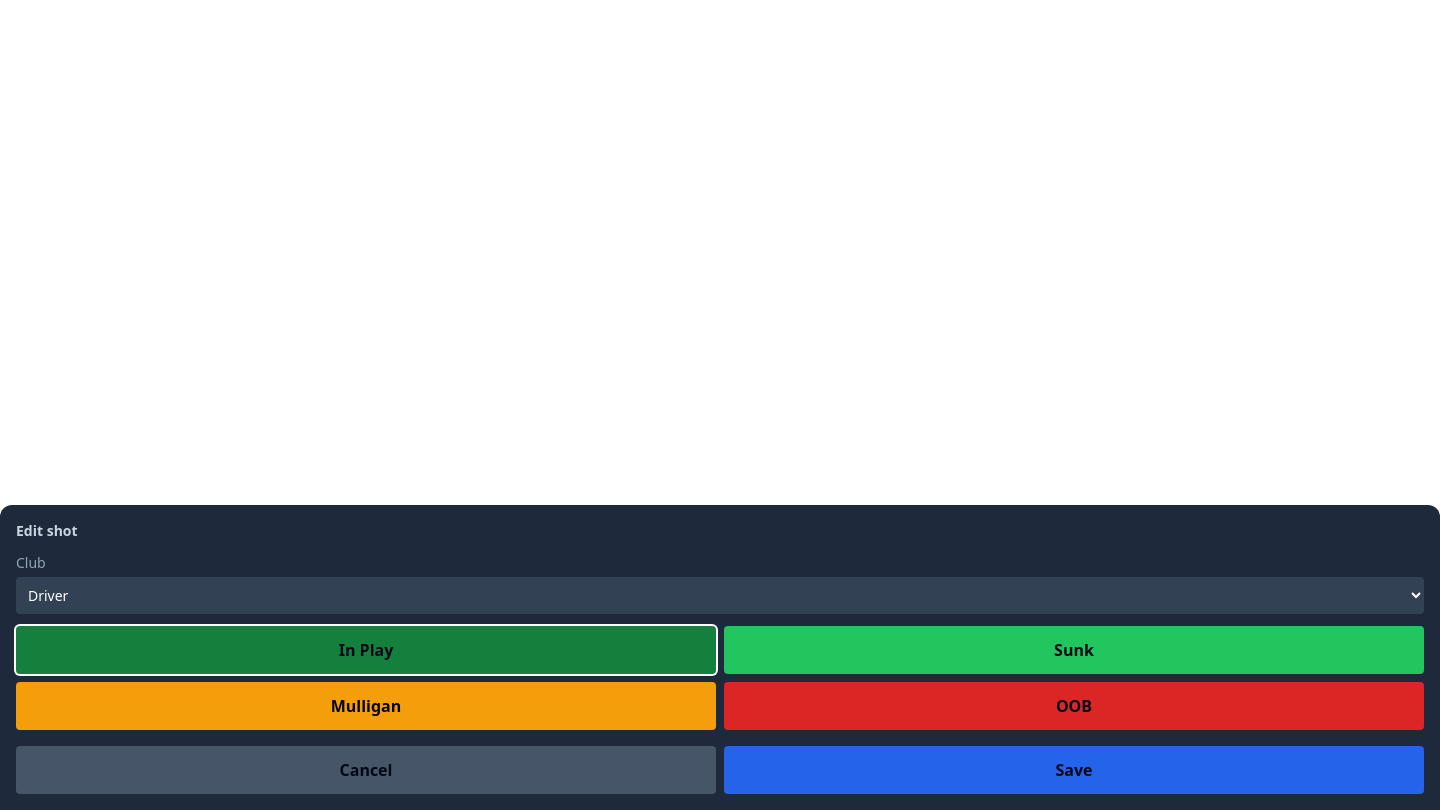
Test case: EditShotPanel › shows error on failed save
Click the button "Save" at {"x": 1074, "y": 770}, box [724,746,1424,794]
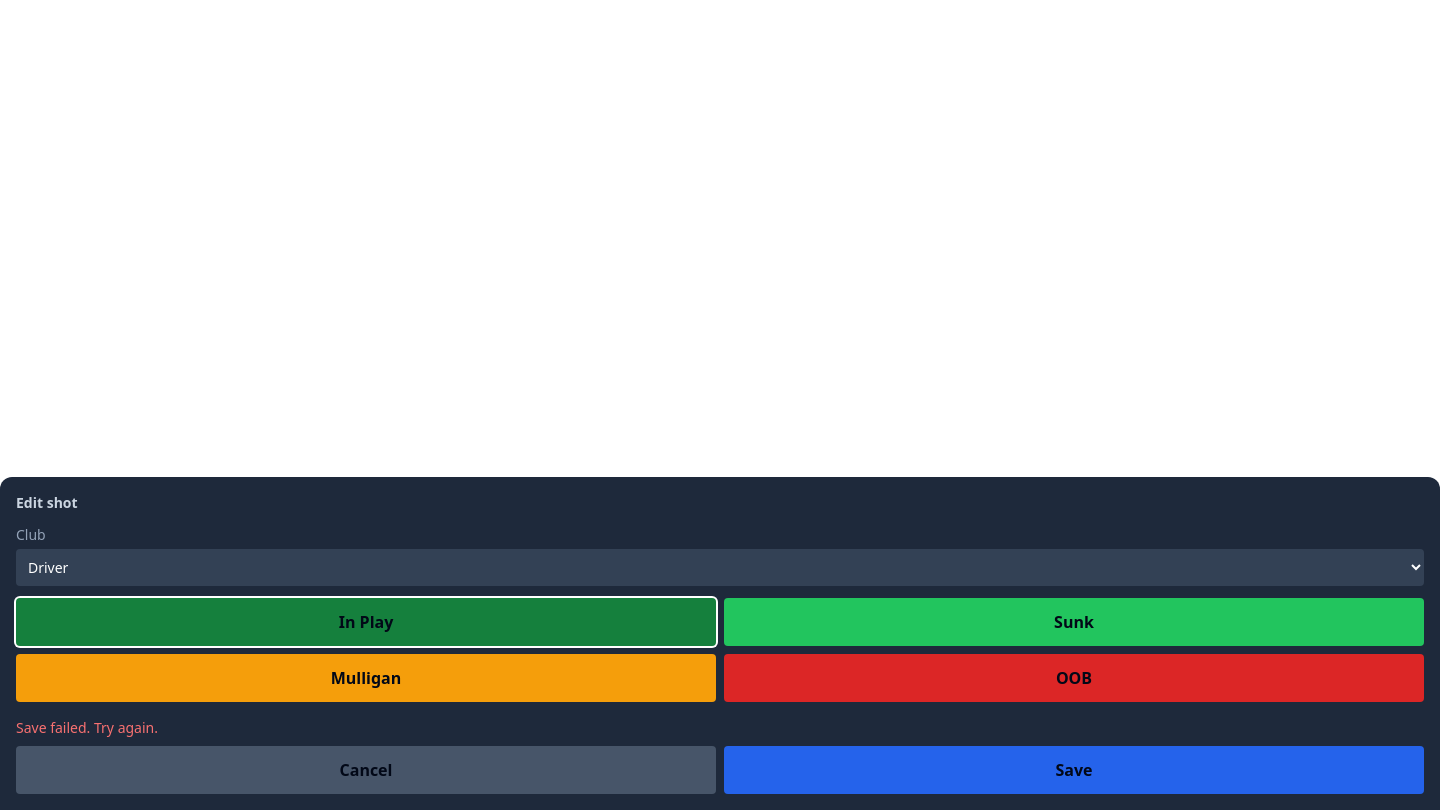
expect the text "Save failed. Try again." is shown: met, box [16,718,158,737]
